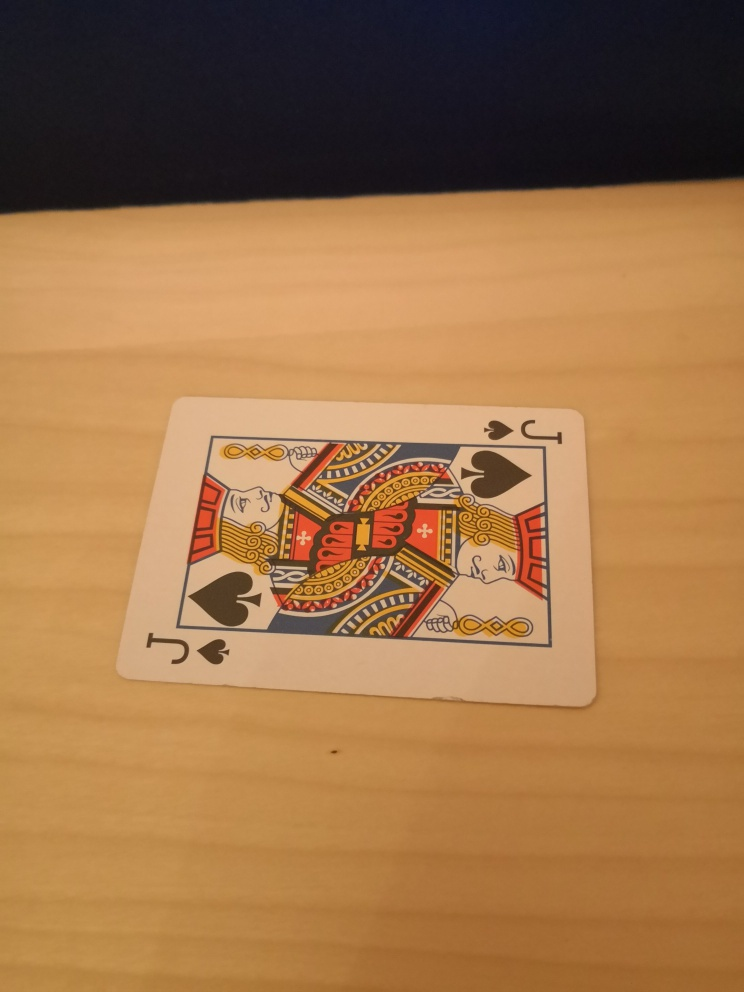jack: (116, 398, 598, 708)
